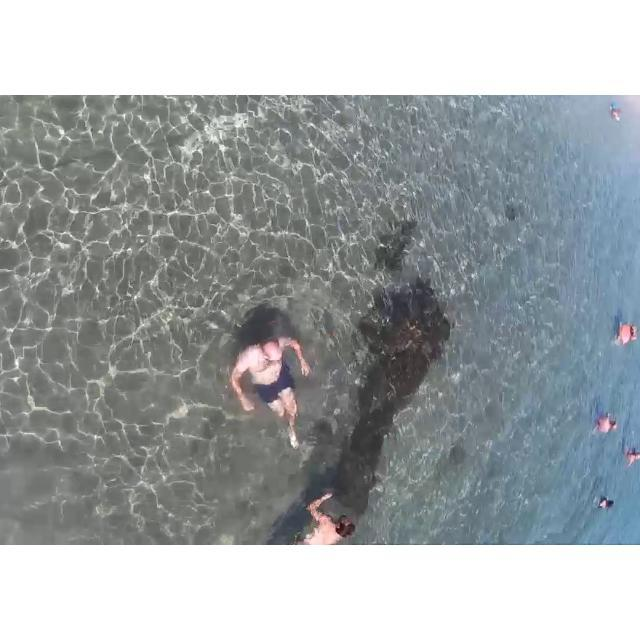human: (222, 312, 323, 461), (583, 405, 620, 442), (605, 312, 630, 351), (595, 489, 628, 518), (622, 436, 640, 478)
